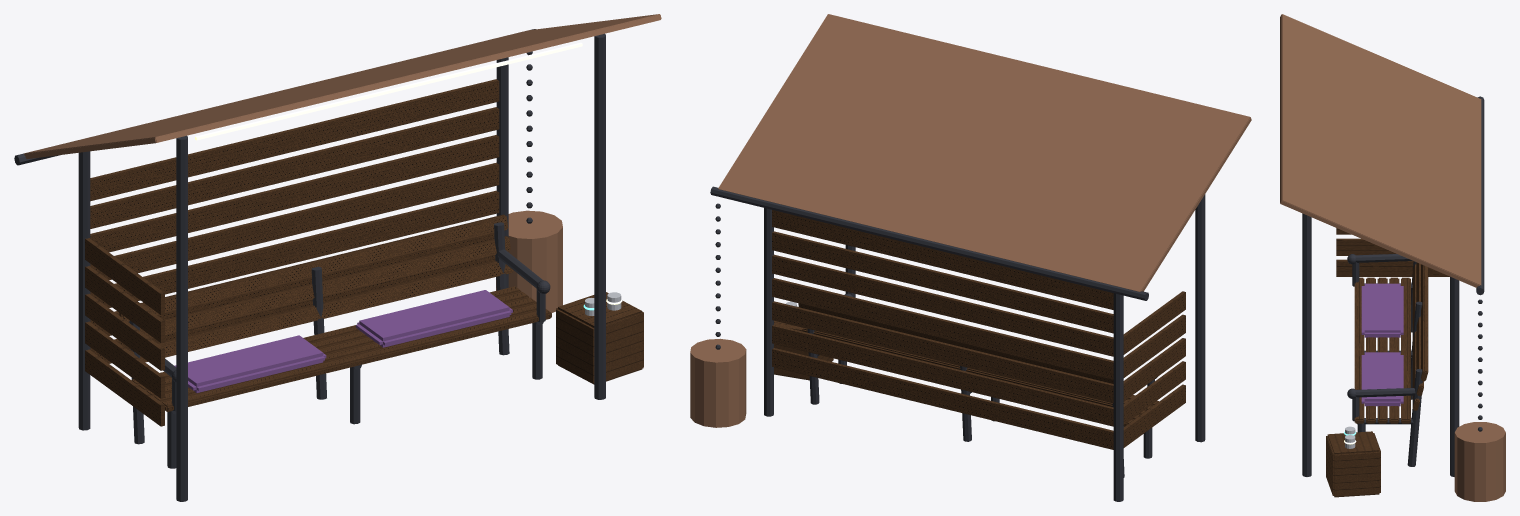
Rendered from deck_bench.glb.
3 renders of one model, left to right at view 1: azimuth 30°, elevation 25°; view 2: azimuth 150°, elevation 25°; view 3: azimuth 270°, elevation 25°, orthographic. The views are drawn at different scales.
Visible parts, largest first — view 1: Seat slat, Front leg, Little roof, Cushion, Mug band.001; view 2: Little roof, Seat slat, Front leg; view 3: Little roof, Seat slat, Front leg, Cushion.
Boxes of the visible parts, x1,y1,x2,y2 form: Seat slat: [85, 79, 643, 426]; Front leg: [14, 29, 605, 501]; Little roof: [23, 14, 661, 312]; Cushion: [174, 290, 512, 392]; Mug band.001: [195, 42, 622, 304]; Little roof: [690, 14, 1251, 427]; Seat slat: [772, 210, 1185, 449]; Front leg: [710, 186, 1205, 501]; Little roof: [1280, 14, 1505, 501]; Seat slat: [1326, 228, 1449, 497]; Front leg: [1302, 96, 1484, 476]; Cushion: [1361, 283, 1403, 406].
Size of the model in its own units: 4.06 by 2.77 by 1.94.
7 materials, 1 textured.
